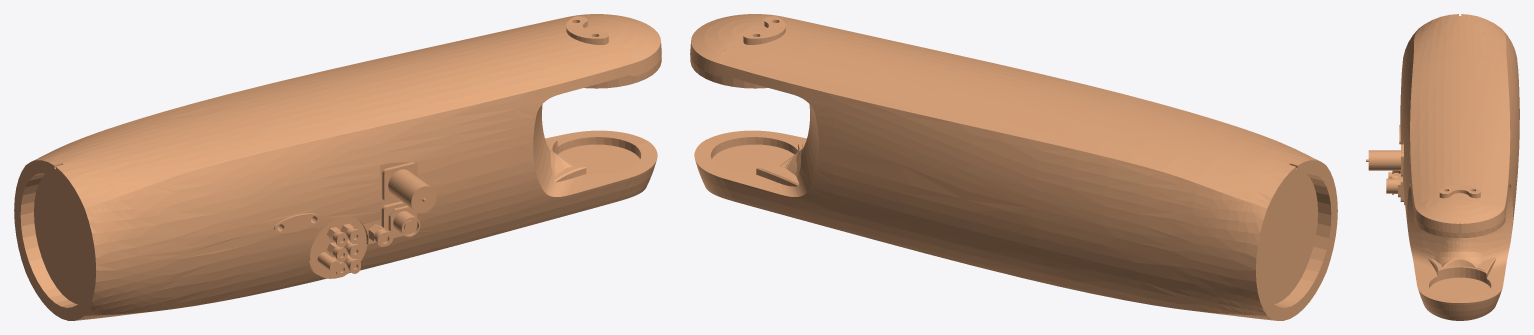
3 renders of one model, left to right at view 1: azimuth 30°, elevation 25°; view 2: azimuth 150°, elevation 25°; view 3: azimuth 270°, elevation 25°, orthographic. The views are drawn at different scales.
Visible parts, largest first — view 1: /Link4/Link4-mesh/0; view 2: /Link4/Link4-mesh/0; view 3: /Link4/Link4-mesh/0.
Part boxes in pixels (bbox=[...]): /Link4/Link4-mesh/0: bbox=[14, 14, 661, 320]; /Link4/Link4-mesh/0: bbox=[690, 14, 1337, 320]; /Link4/Link4-mesh/0: bbox=[1366, 14, 1519, 320].
Size of the model in its own units: 0.4504 by 0.1192 by 0.1427.
